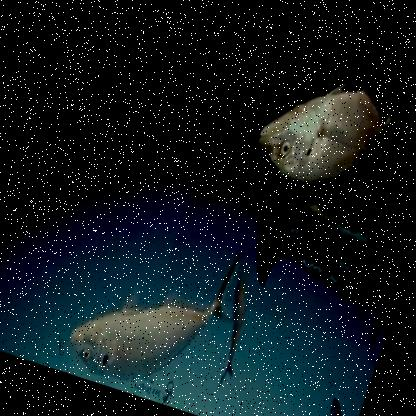white-shark: (160, 71, 415, 350)
